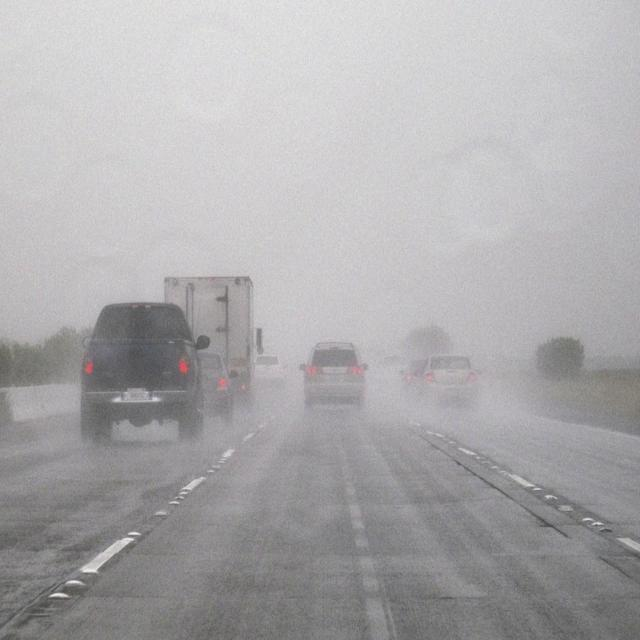Car: (301, 342, 370, 410), (414, 354, 484, 409), (186, 351, 239, 422), (253, 352, 287, 392), (399, 356, 426, 396)
Truck: (82, 301, 210, 438), (163, 276, 263, 422)
